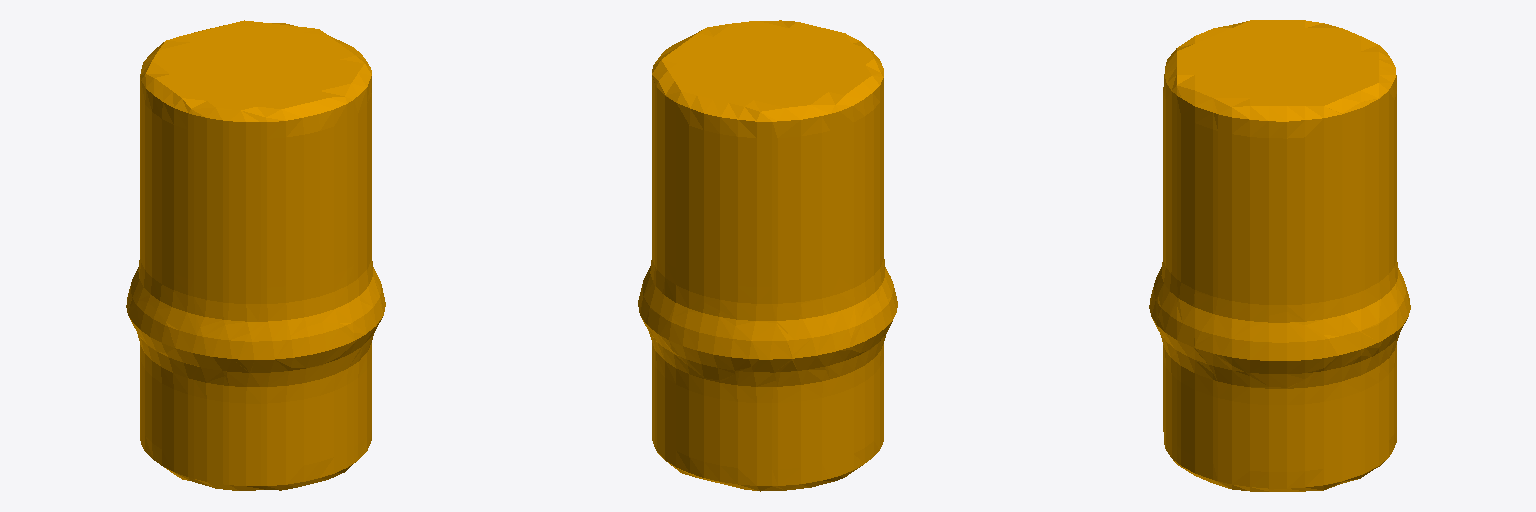
URDF robot description (cylinder_../../meshes/cylinders/cylinder_96.stl):
<?xml version="1.0" encoding="utf-8"?>  <robot name="cylinder_../../meshes/cylinders/cylinder_96.stl">   <link name="cylinder_../../meshes/cylinders/cylinder_96.stl">     <visual>       <geometry>         <mesh filename="../meshes/cylinders/cylinder_96.stl" scale="1 1 1"/>       </geometry>     </visual>     <collision>       <geometry>         <mesh filename="../meshes/cylinders/cylinder_96.stl" scale="1 1 1"/>       </geometry>     </collision>     <inertial>        <origin         xyz="0 0 0"         rpy="0 0 0" />       <mass value="0.3717896212061334"/>       <origin rpy="0 0 0" xyz="0 0 0"/>       <inertia ixx="0.0004970101757162949" ixy="-3.894174068222028e-08" ixz="-2.461468633178285e-08" iyy="0.0004970101248361083" iyz="-1.8522076777822083e-08" izz="0.00019127344007772374"/>     </inertial>   </link>  </robot>

--- Facts derived from the render (not from the file) ---
3 views of the same robot in one strip: view 1: azimuth 30°, elevation 25°; view 2: azimuth 150°, elevation 25°; view 3: azimuth 270°, elevation 25° (orthographic).
Model cylinder_../../meshes/cylinders/cylinder_96.stl with 1 links and 0 joints (none), rooted at cylinder_../../meshes/cylinders/cylinder_96.stl, posed all joints at 0.
Links seen in each view (by area): view 1: cylinder_../../meshes/cylinders/cylinder_96.stl; view 2: cylinder_../../meshes/cylinders/cylinder_96.stl; view 3: cylinder_../../meshes/cylinders/cylinder_96.stl.
Link boxes in pixels (left/top/right/bottom): cylinder_../../meshes/cylinders/cylinder_96.stl: left=126, top=20, right=385, bottom=490; cylinder_../../meshes/cylinders/cylinder_96.stl: left=638, top=20, right=897, bottom=491; cylinder_../../meshes/cylinders/cylinder_96.stl: left=1149, top=20, right=1410, bottom=491.
Bounding box of the posed robot: 0.071 × 0.071 × 0.1155 m (x, y, z).
Meshes: 1 distinct files referenced, 1 mesh visuals loaded (1 binary STL).